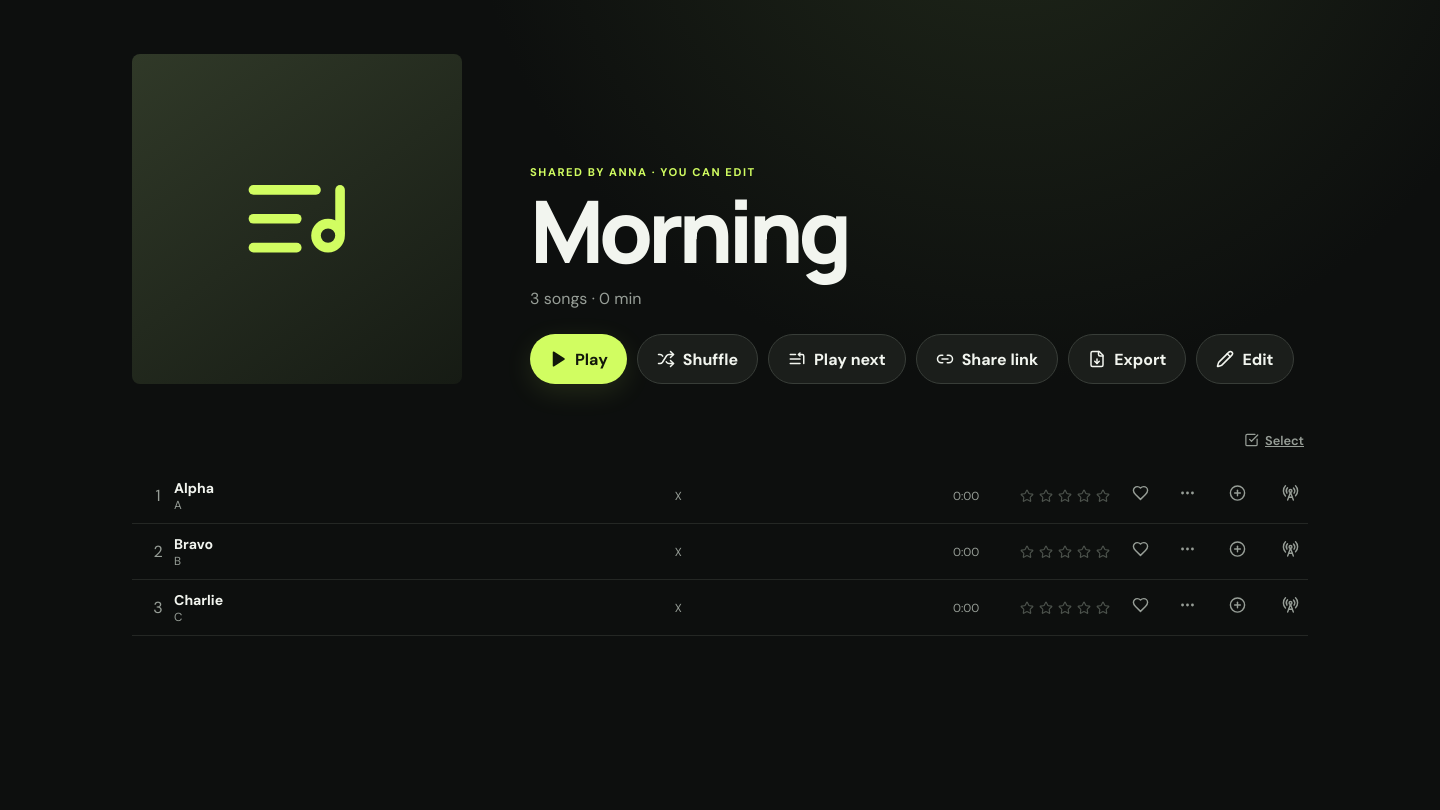
Test: PlaylistDetail editing › shows why a collaborator's change was not saved
Click the button "Edit" at (1245,359), box [1196,334,1294,384]
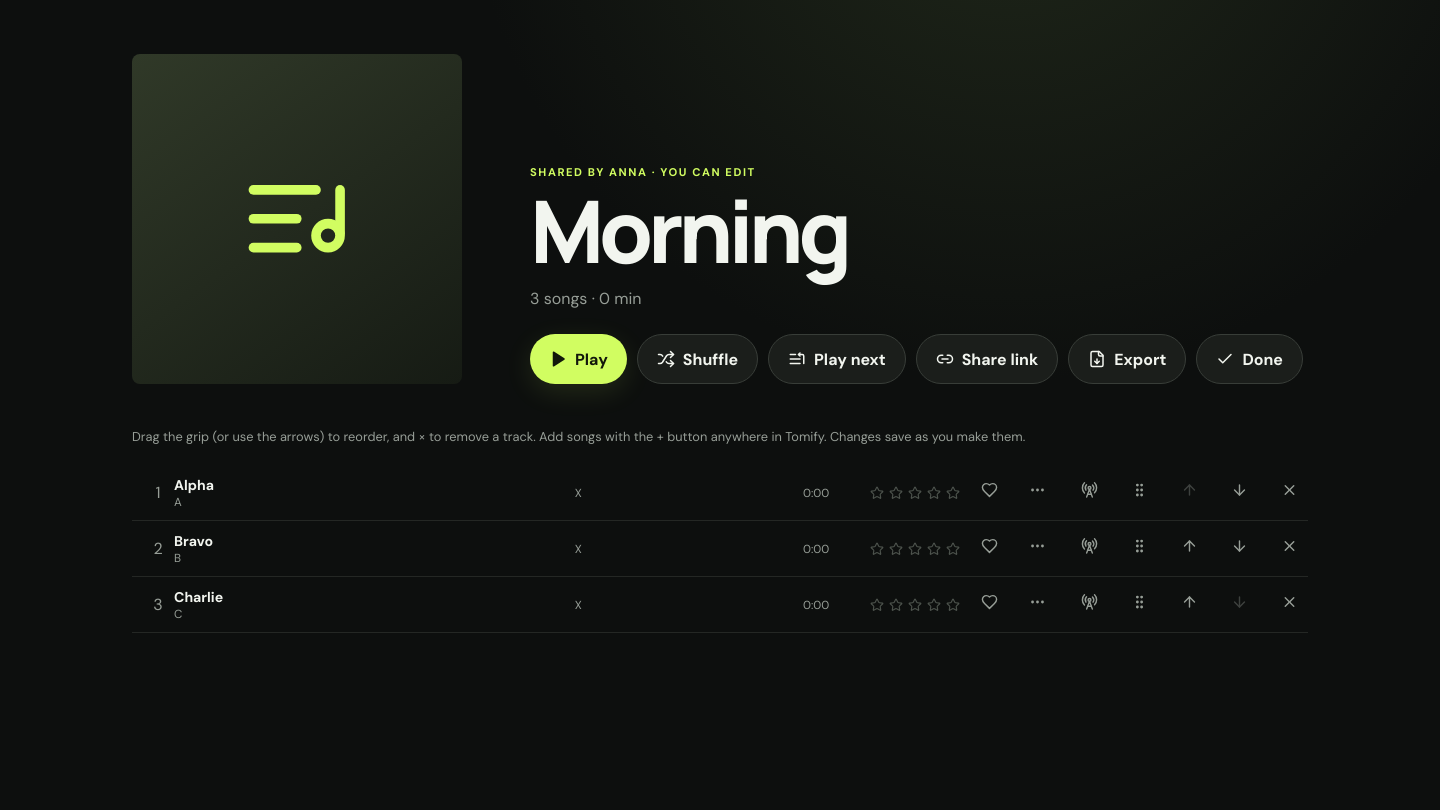
Click the button named "Remove Bravo from playlist" at (1290,548), box [1272,527,1308,570]
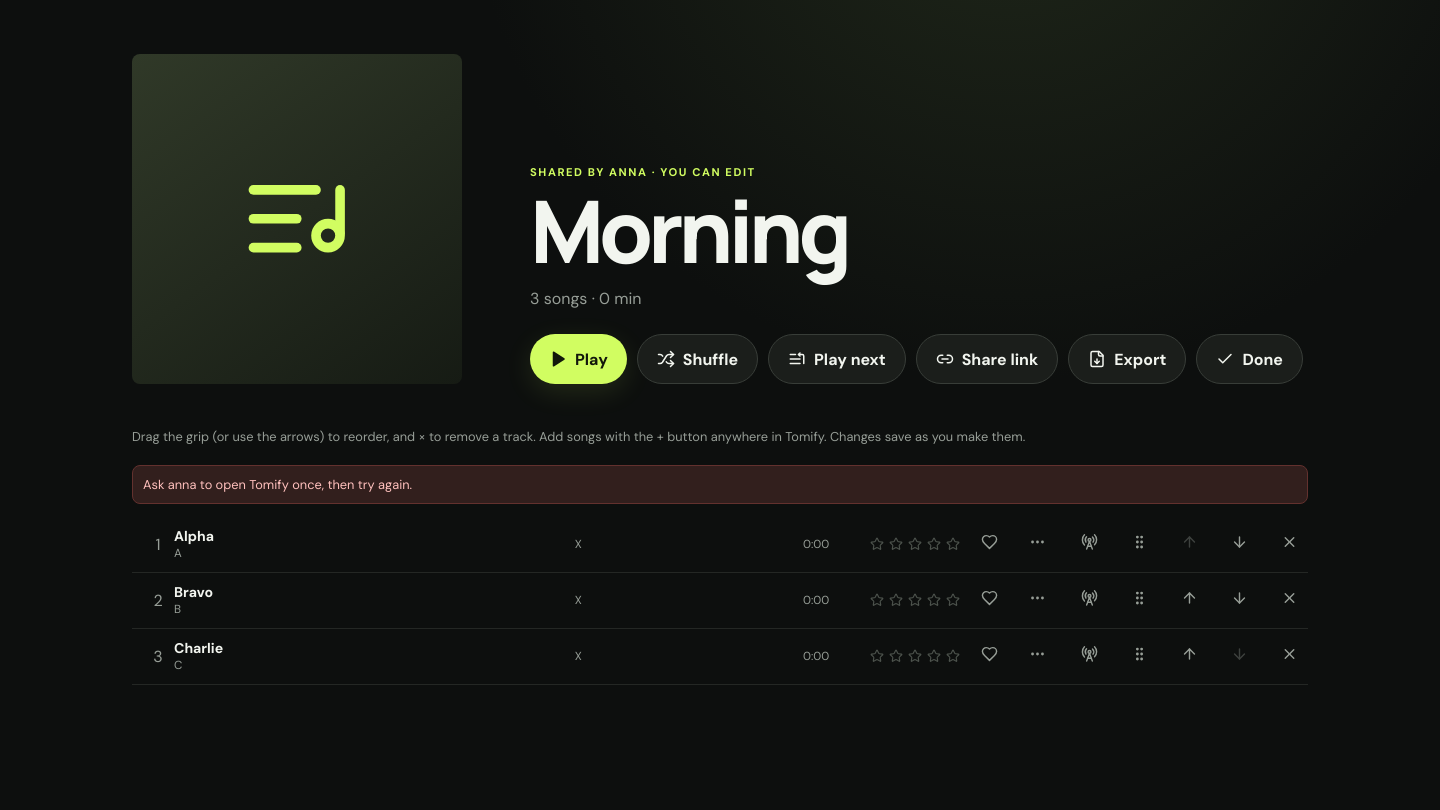
Expected: the number of list items is 3, [132,517,1308,573]; [132,573,1308,629]; [132,629,1308,685]
Expected: the message shows "Ask anna to open Tomify once", [143,476,412,493]
